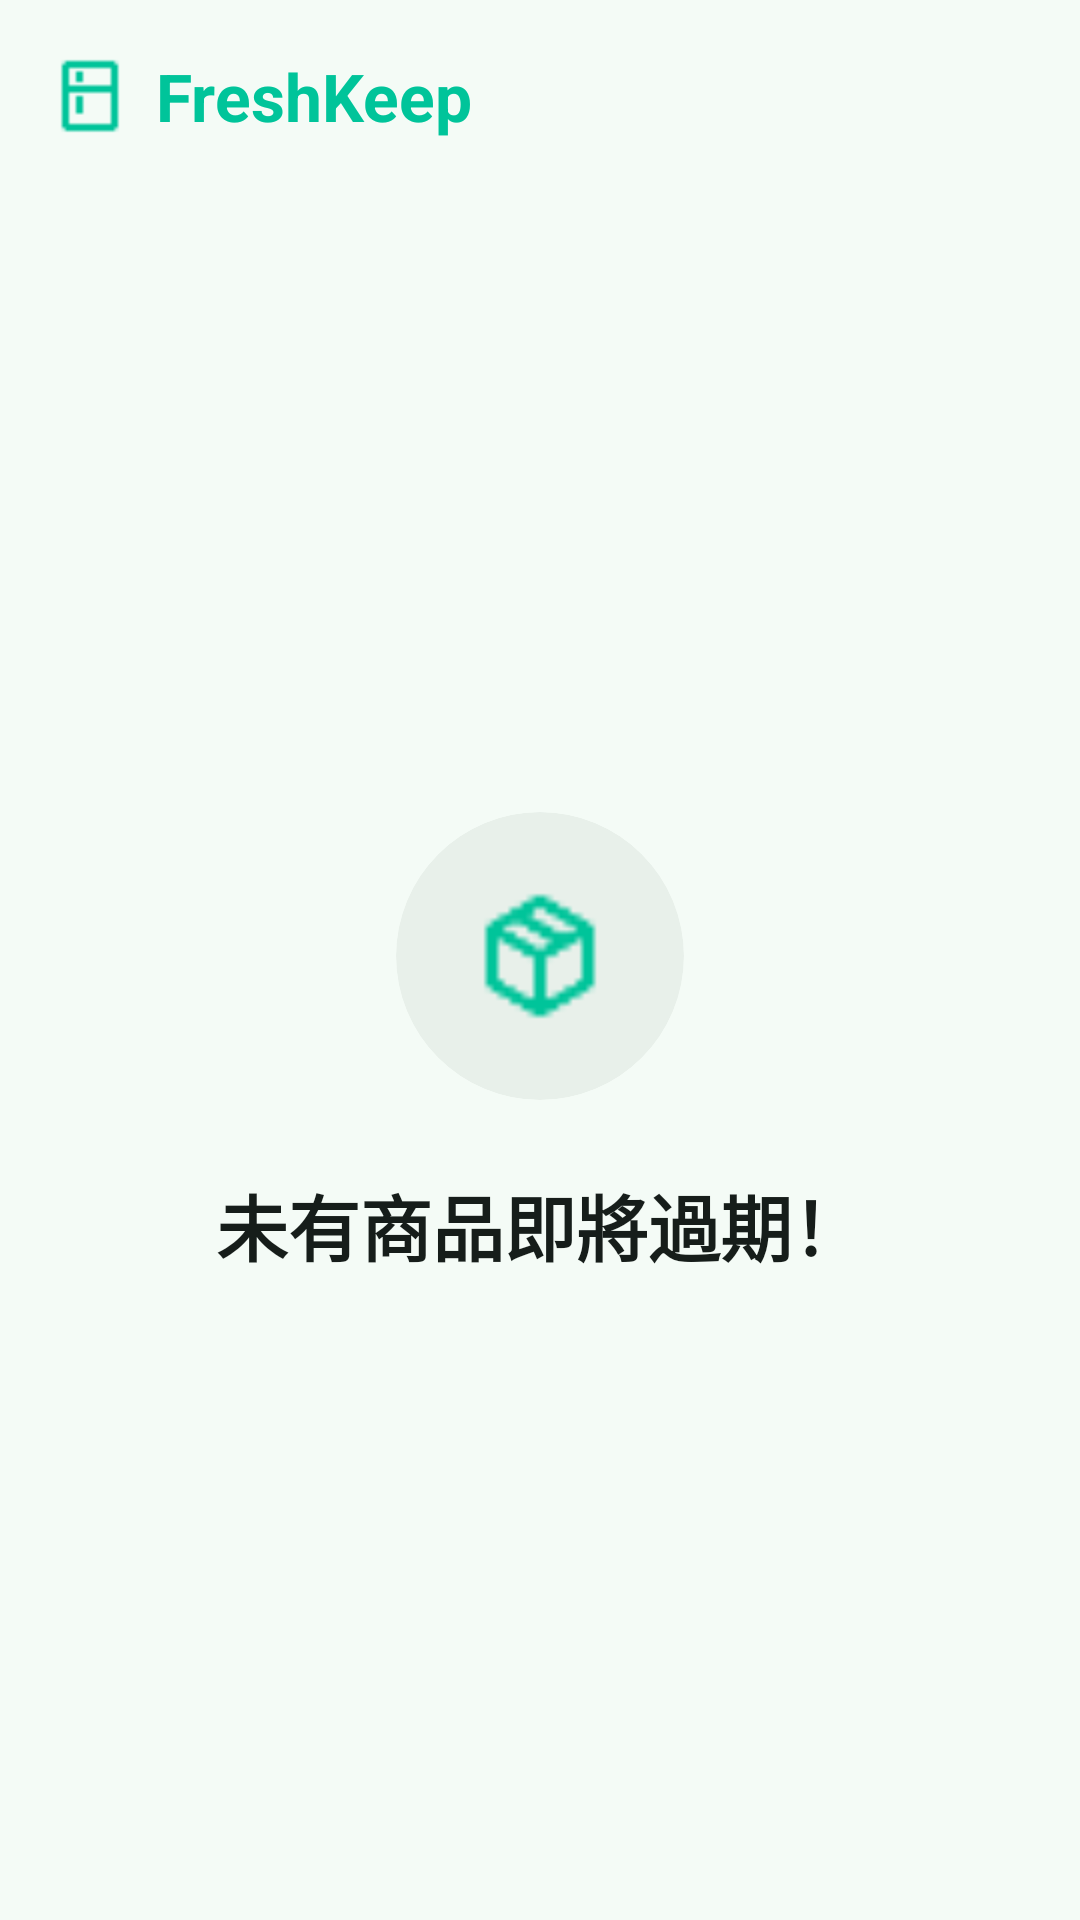

Icon click points for this 1080 x 1920 phone screenshot, format point (x, y):
box: point (540, 956)
refrigerator: point (90, 96)
